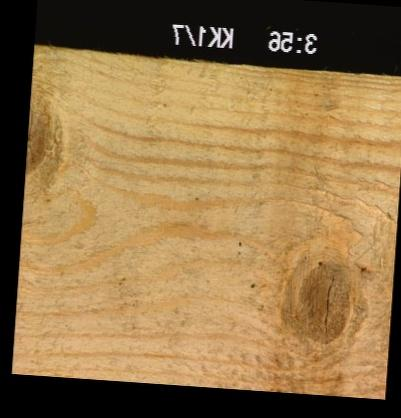sound_knot: (295, 262, 353, 341), (27, 92, 54, 173)
